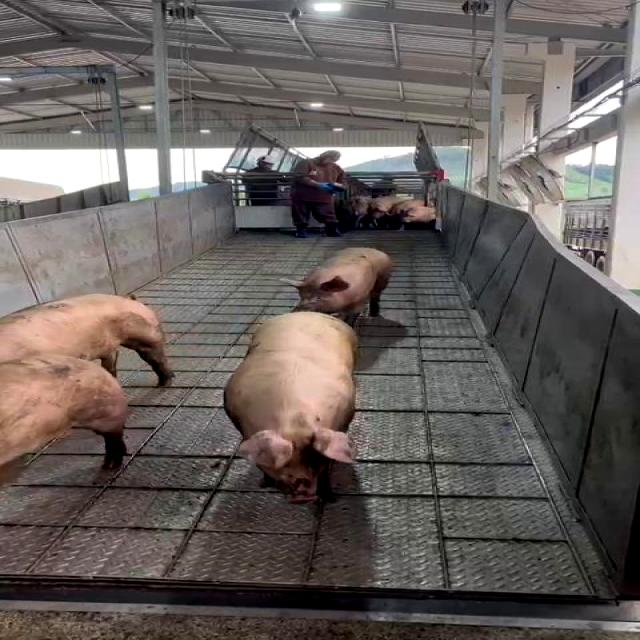pig: (225, 311, 358, 503), (0, 294, 174, 384), (0, 356, 126, 478), (293, 248, 394, 324)
